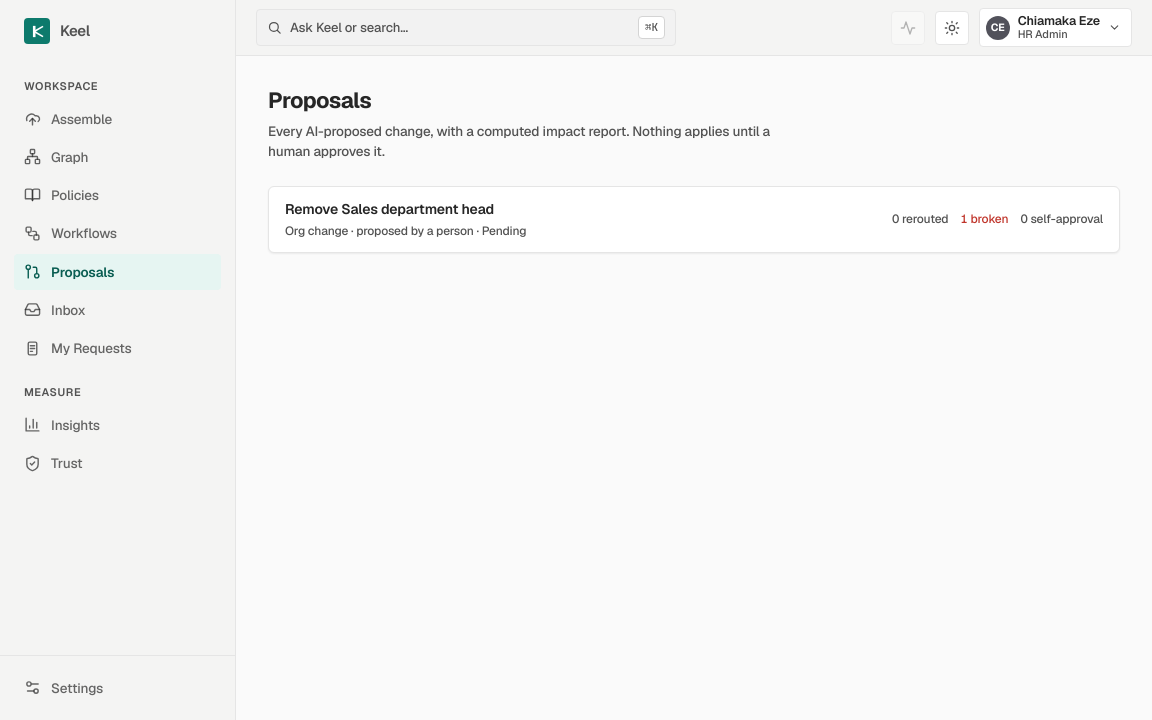
Test: /proposals › disables Approve while there are broken chains, until Approve anyway is ticked with a reason
Click the button "Remove Sales department head" at (390, 208), box [269, 186, 1119, 252]
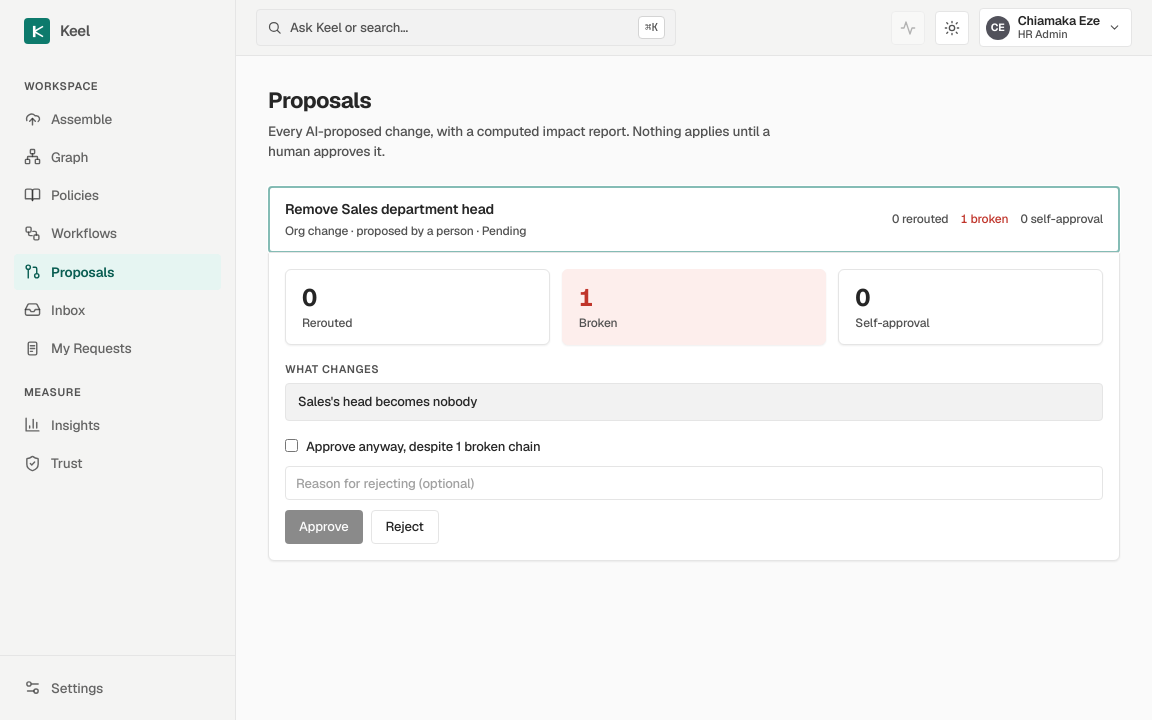
Result: the button "Approve" is disabled at [285, 510, 362, 544]
Click the checkbox at (292, 445), box [285, 438, 298, 452]
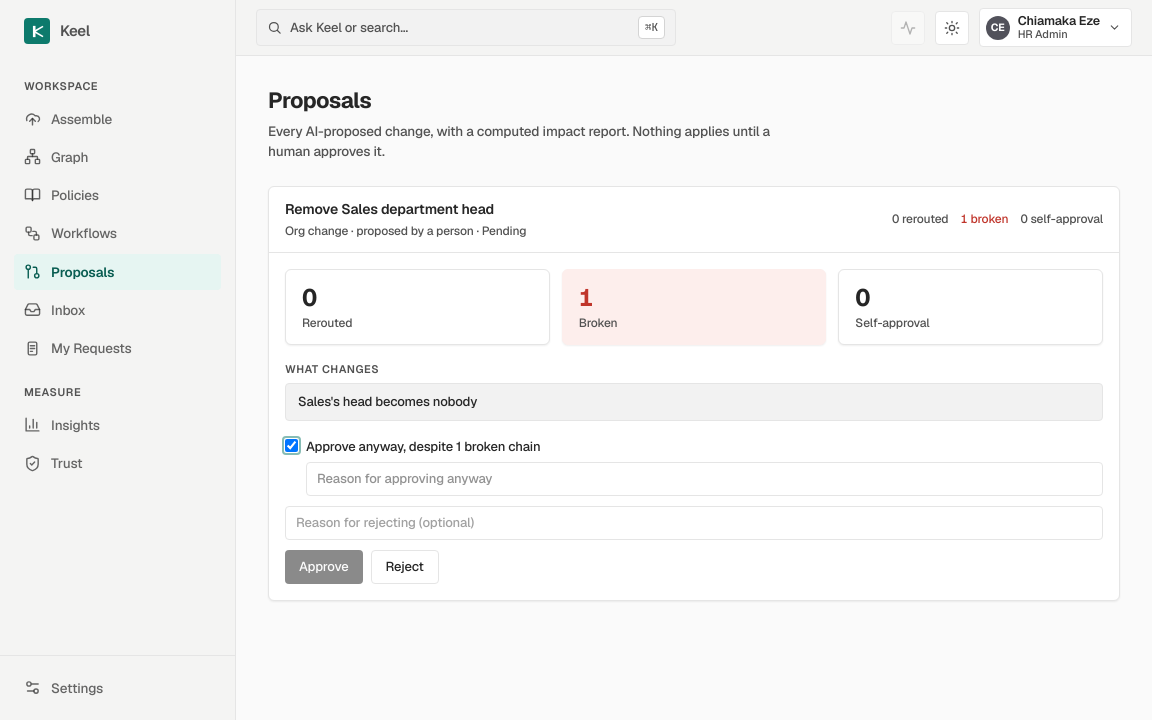
Result: the button "Approve" is disabled at [285, 550, 362, 584]
Type "Sales is folding into Ops next week" into the field labelled "Reason for approving anyway" at (704, 479), box [306, 462, 1103, 496]
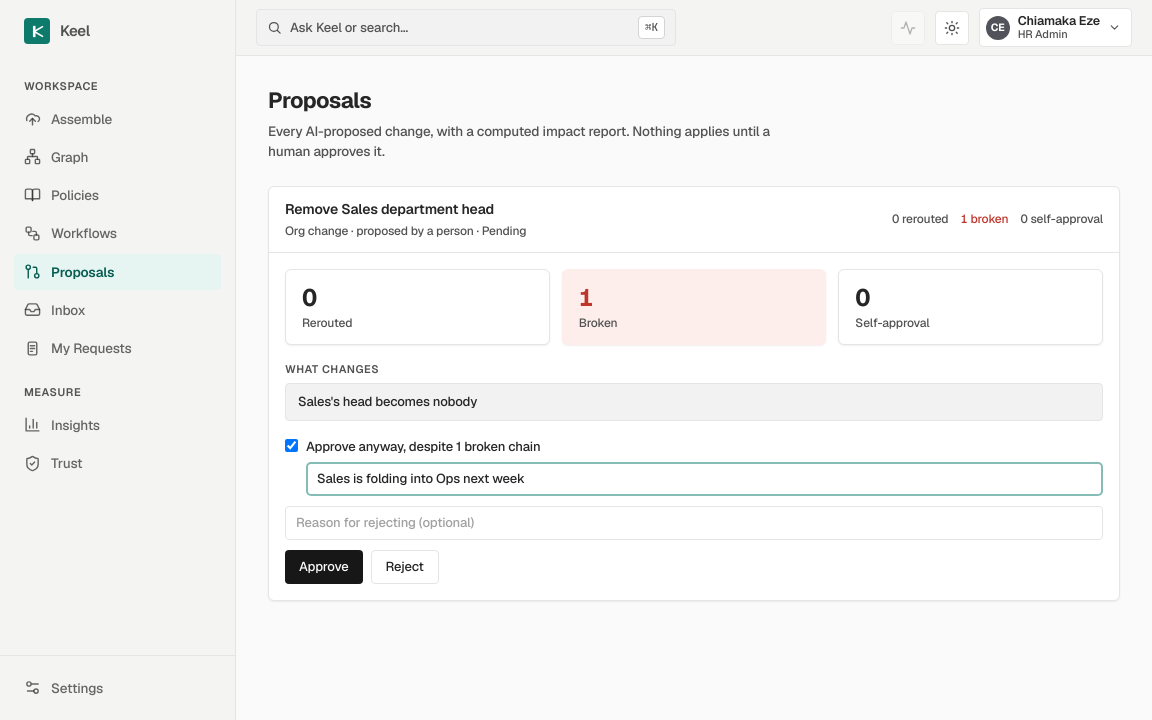
Result: the button "Approve" is enabled at [285, 550, 362, 584]
